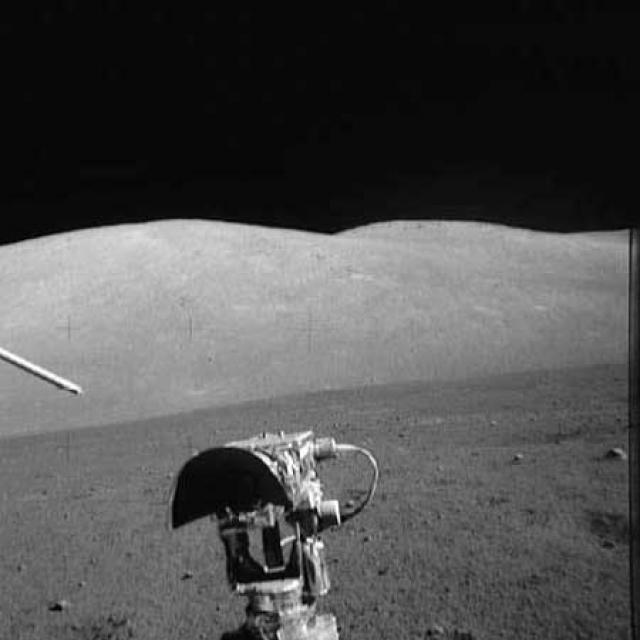artifact: (172, 416, 390, 639), (541, 495, 634, 559), (1, 335, 90, 400)
